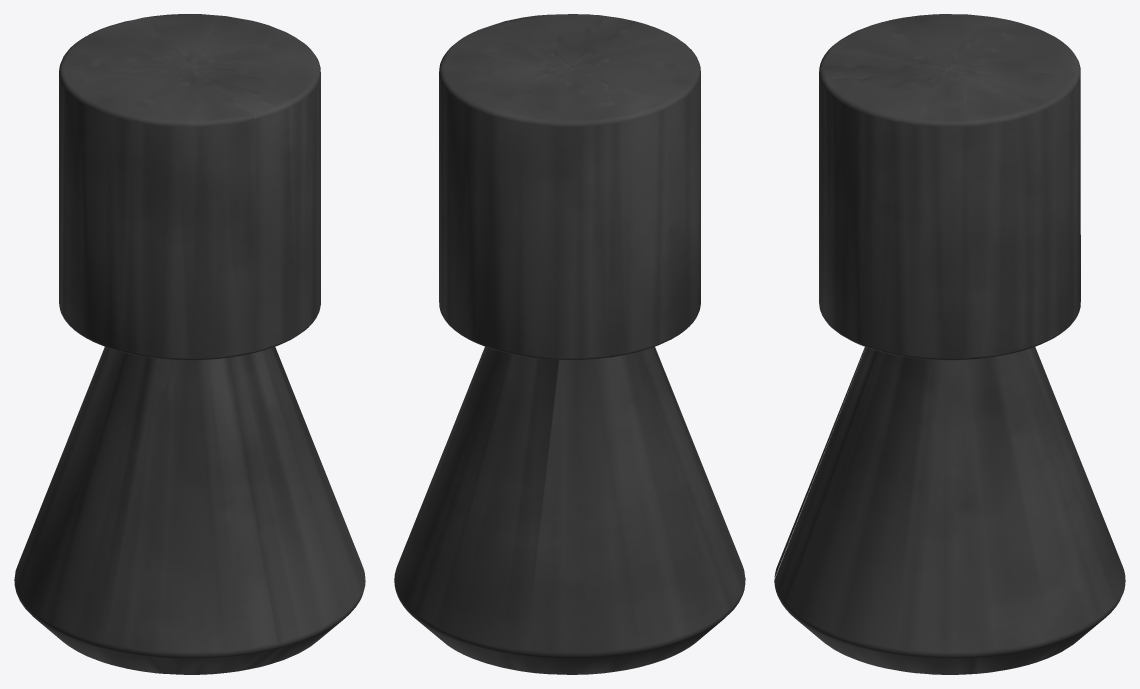
File: 05_jezdec_cerna.glb
3 renders of one model, left to right at view 1: azimuth 30°, elevation 25°; view 2: azimuth 150°, elevation 25°; view 3: azimuth 270°, elevation 25°, orthographic.
Visible parts, largest first — view 1: 05_jezdec_cerna; view 2: 05_jezdec_cerna; view 3: 05_jezdec_cerna.
Part boxes in pixels (bbox=[...]): 05_jezdec_cerna: bbox=[14, 14, 365, 674]; 05_jezdec_cerna: bbox=[394, 14, 745, 674]; 05_jezdec_cerna: bbox=[774, 14, 1125, 674].
Bounding box in the file's own units: 0.0413 × 0.0711 × 0.0413.
1 material, 1 textured.
